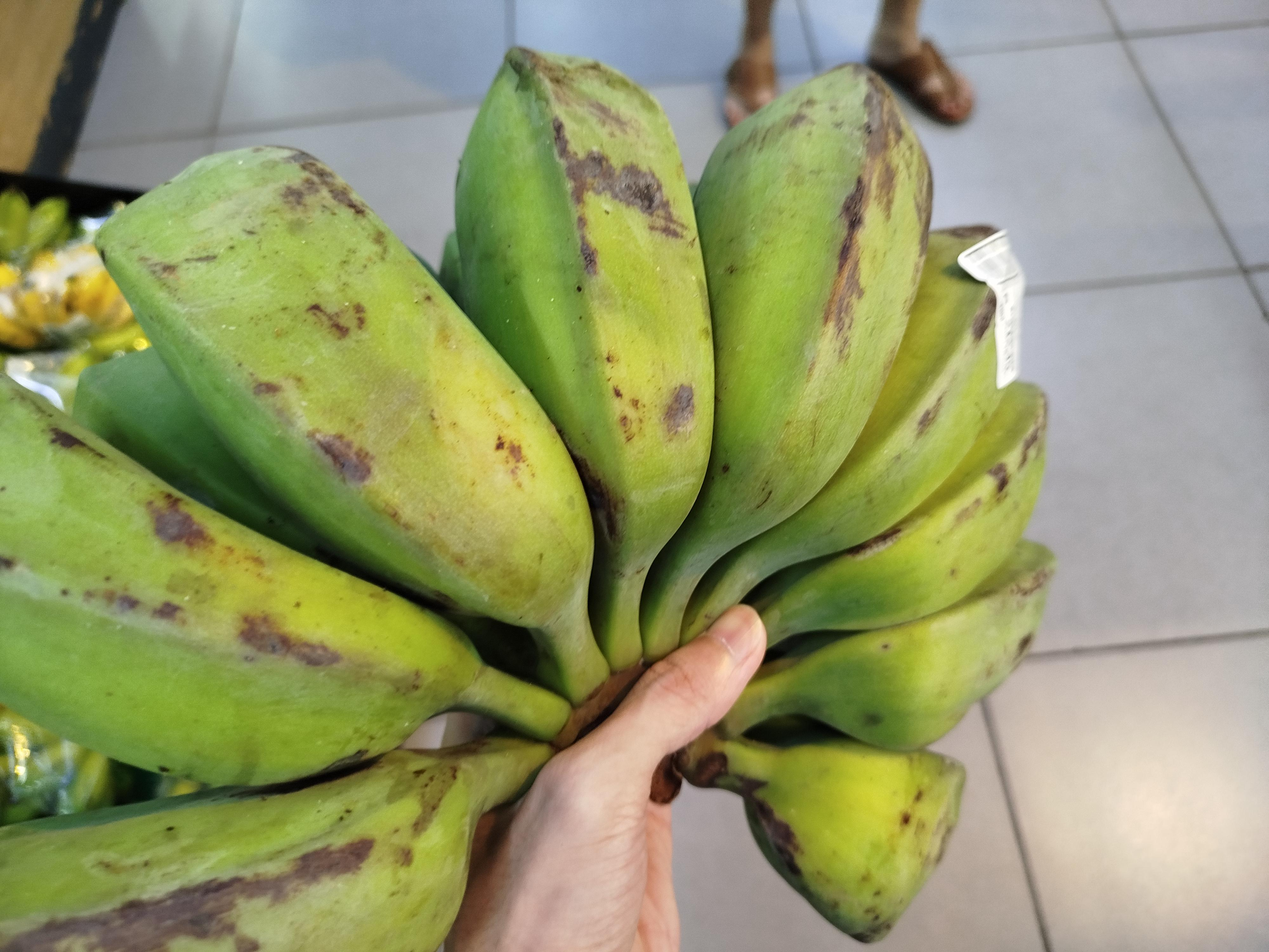underripe: (0, 49, 1053, 952)
